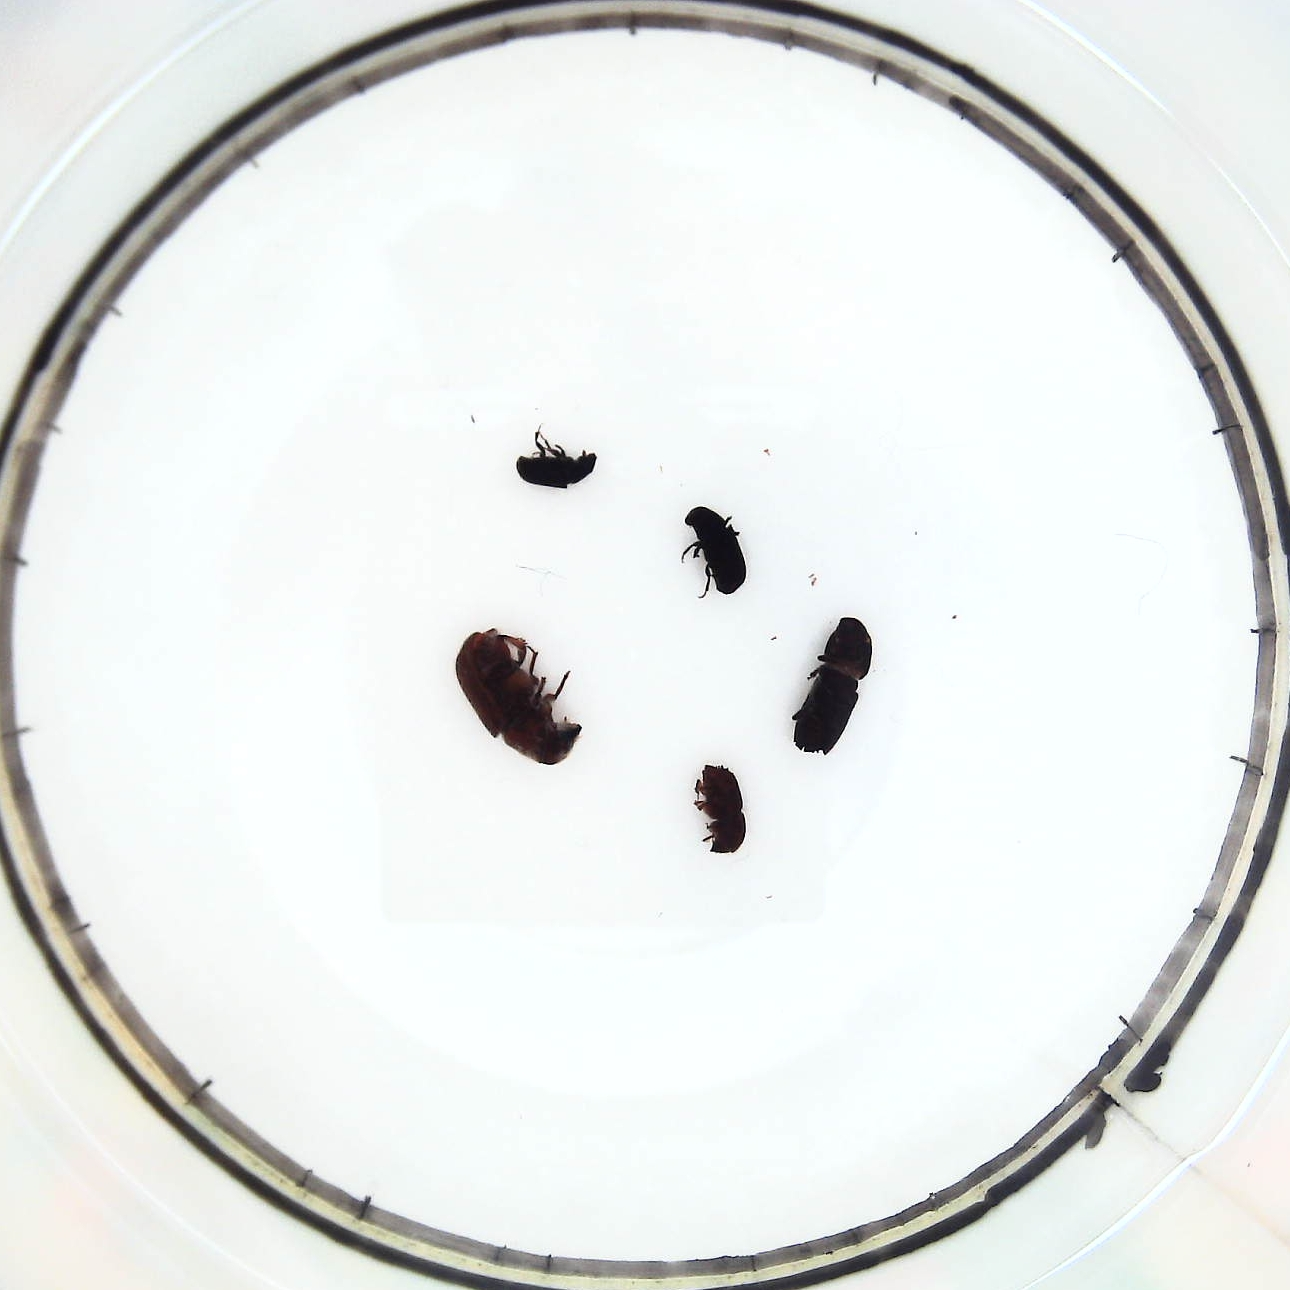Boerner: (786, 613, 877, 760)
Leconte: (452, 625, 589, 774)
armandi: (671, 506, 754, 602)
coleoptera: (513, 421, 598, 491)
linnaeus: (686, 760, 757, 860)
